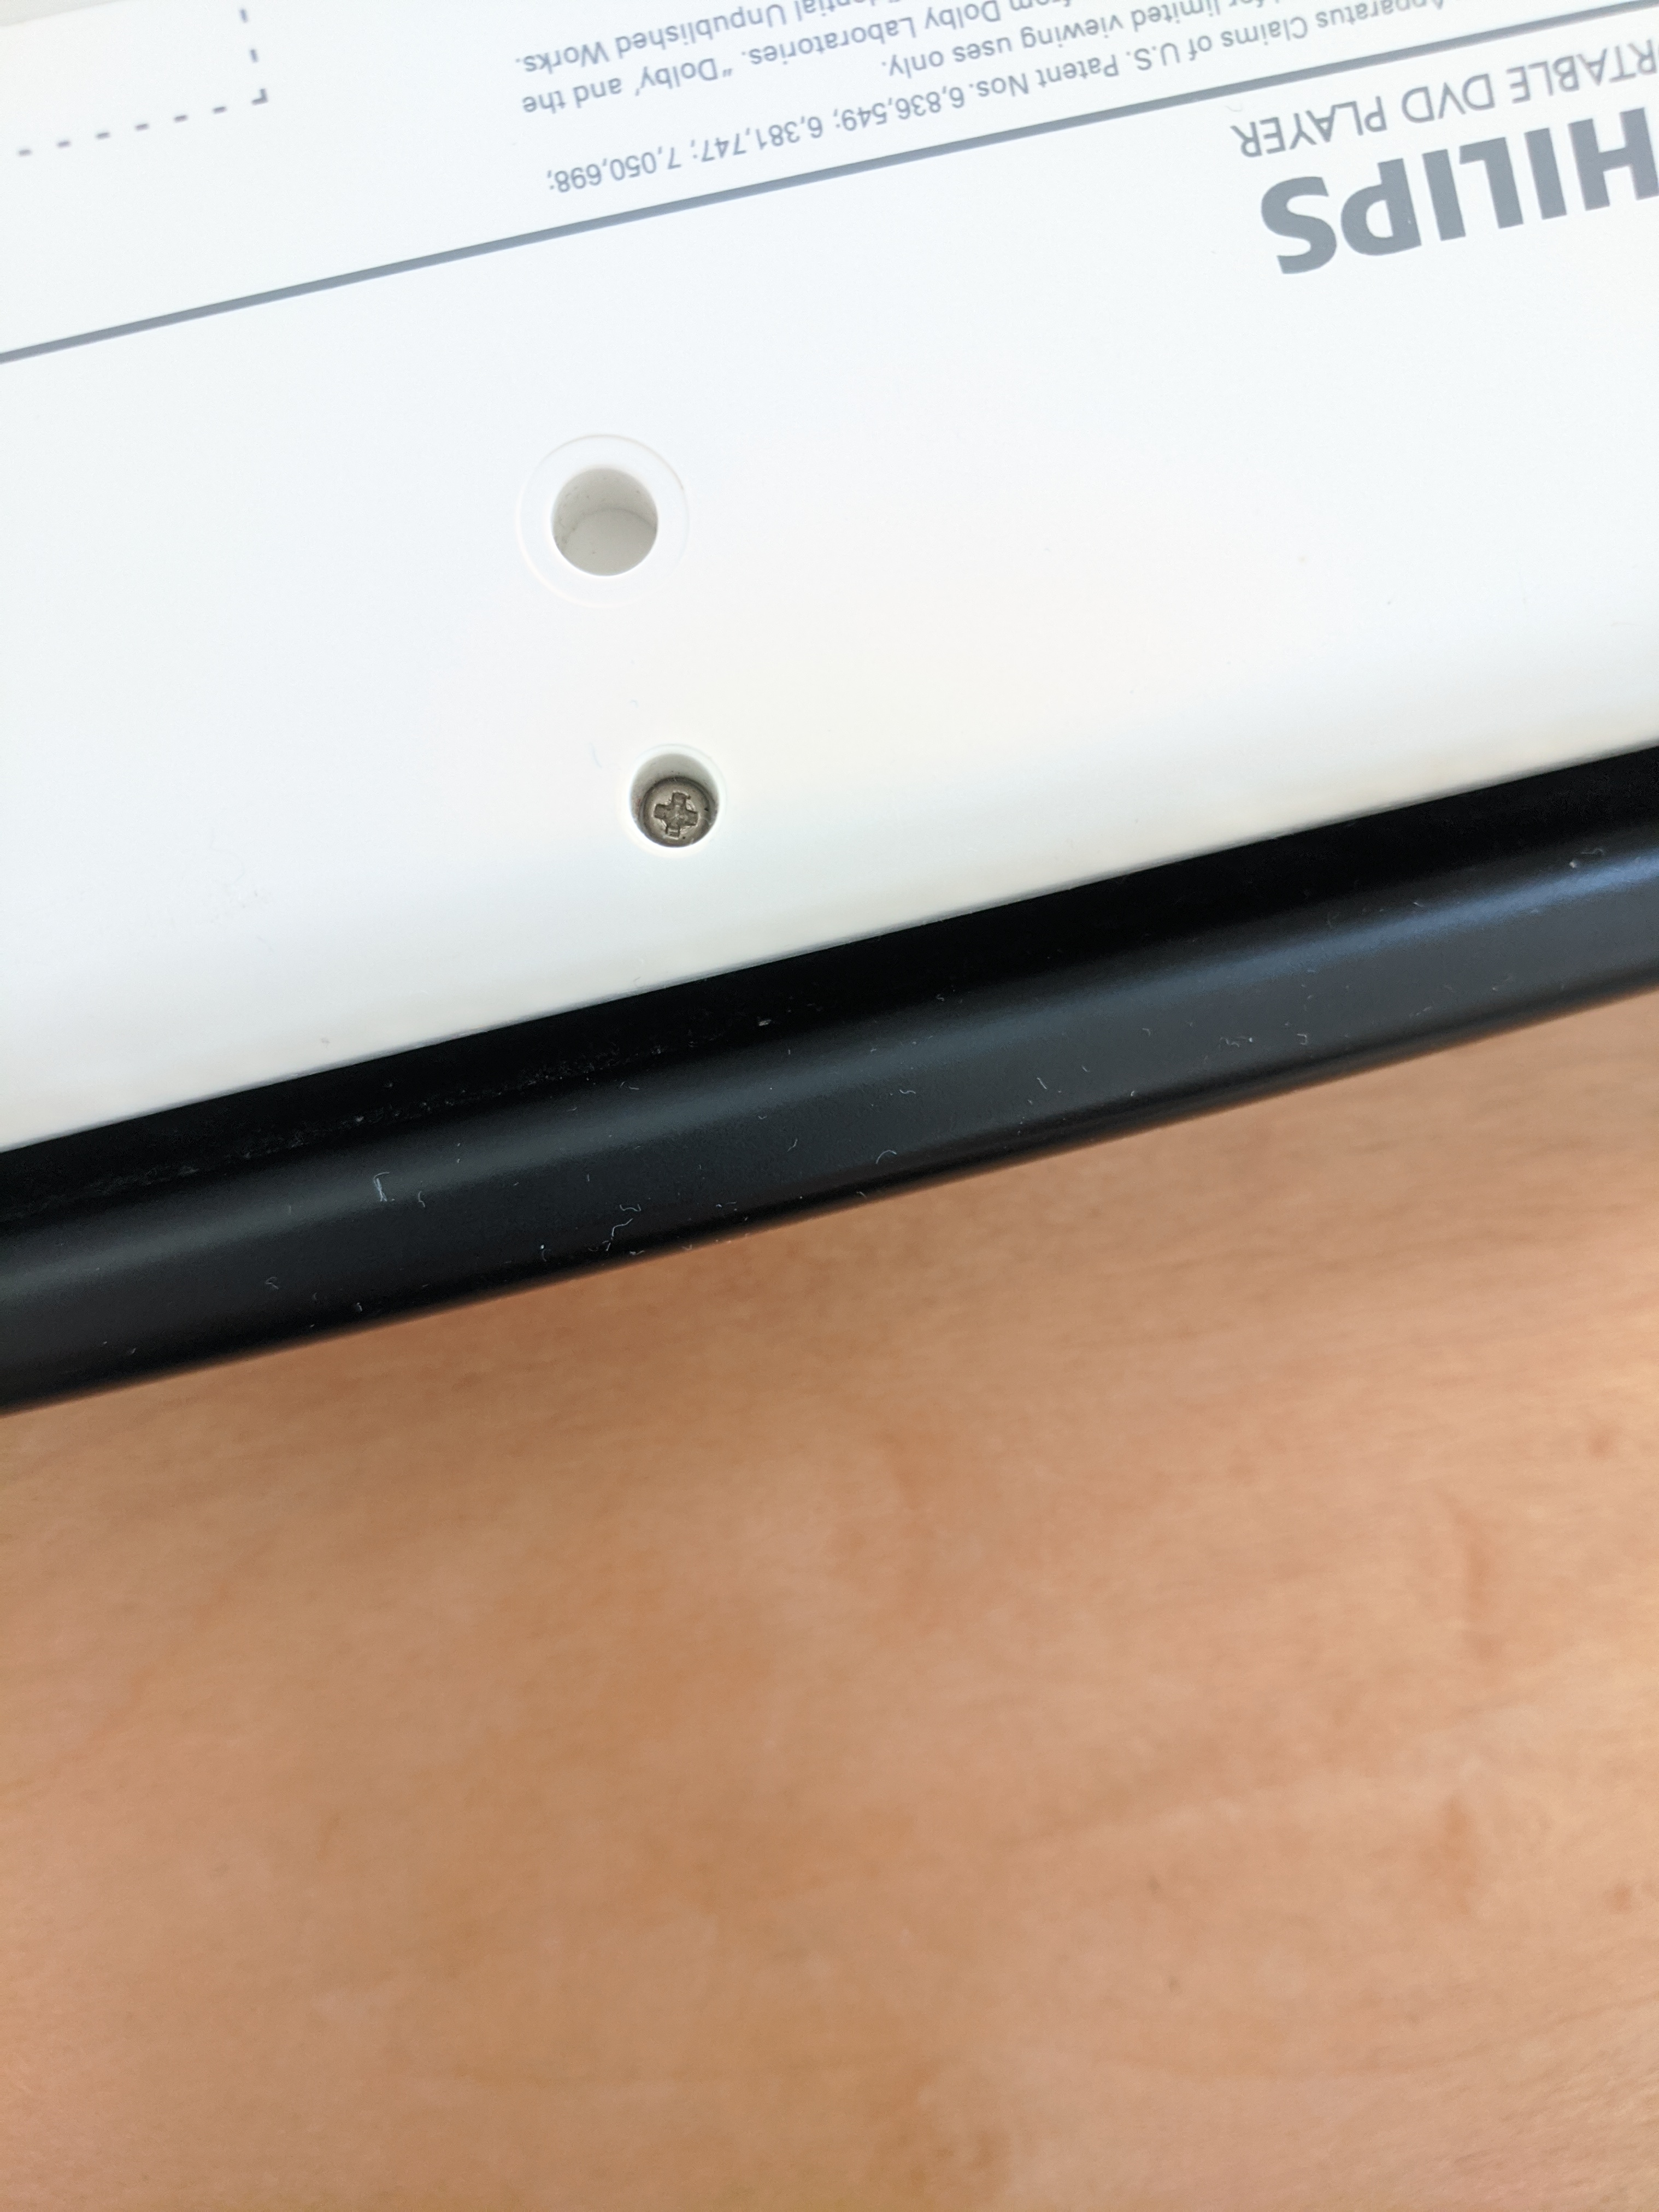cross_recessed_screw: (627, 751, 723, 850)
